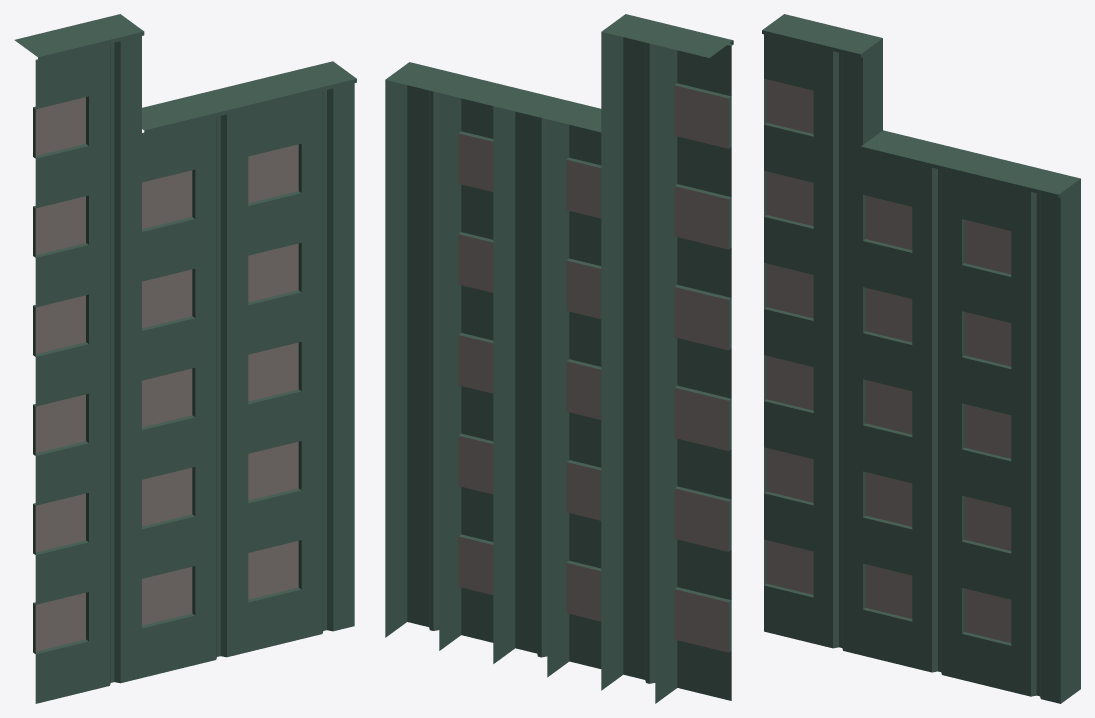
The picture shows the model from 3 angles, left to right: view 1: azimuth 30°, elevation 25°; view 2: azimuth 150°, elevation 25°; view 3: azimuth 330°, elevation 25°; orthographic projection. The views are drawn at different scales.
Parts seen in each view (by area): view 1: Pared.Win.x4.016; view 2: Pared.Win.x4.016; view 3: Pared.Win.x4.016.
Boxes of the visible parts, left/top/right/bottom form: Pared.Win.x4.016: left=14, top=14, right=356, bottom=703; Pared.Win.x4.016: left=385, top=14, right=733, bottom=703; Pared.Win.x4.016: left=762, top=14, right=1080, bottom=703.
Size of the model in its own units: 1671 by 3245 by 217.
